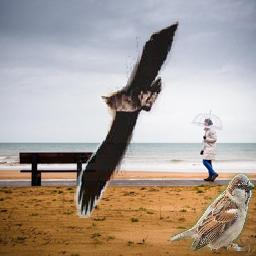Crow: (75, 18, 180, 218)
Sparrow: (172, 173, 255, 251)
